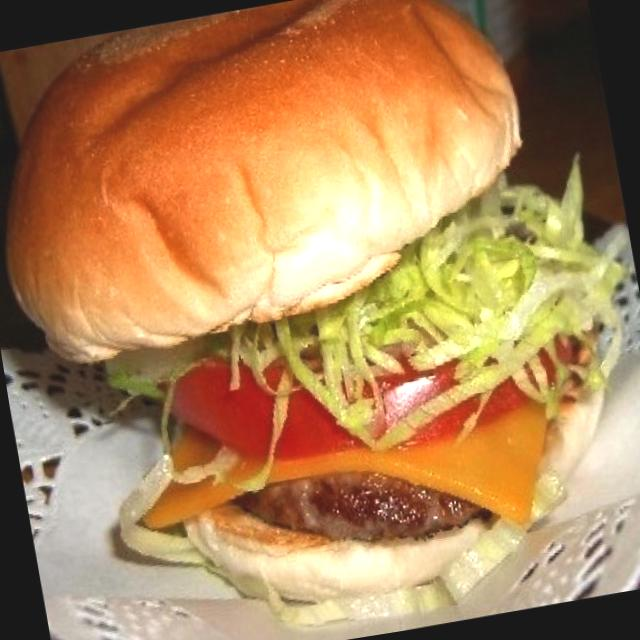Hamburger: (0, 0, 634, 640)
